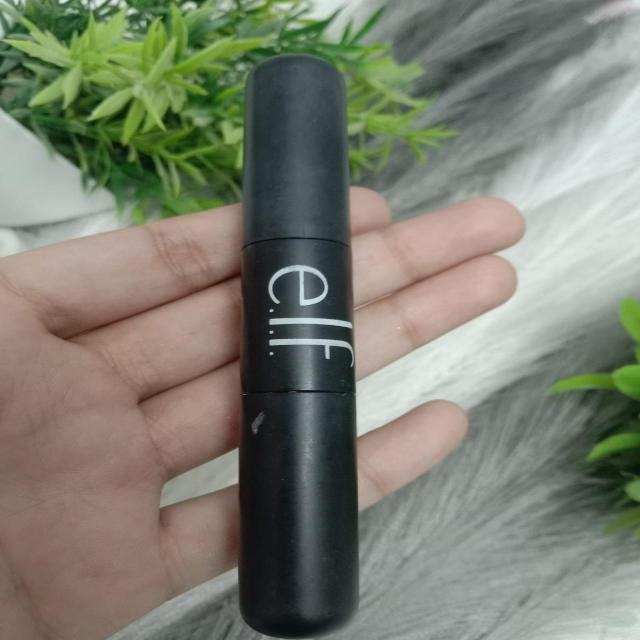mascara: (216, 35, 382, 640)
